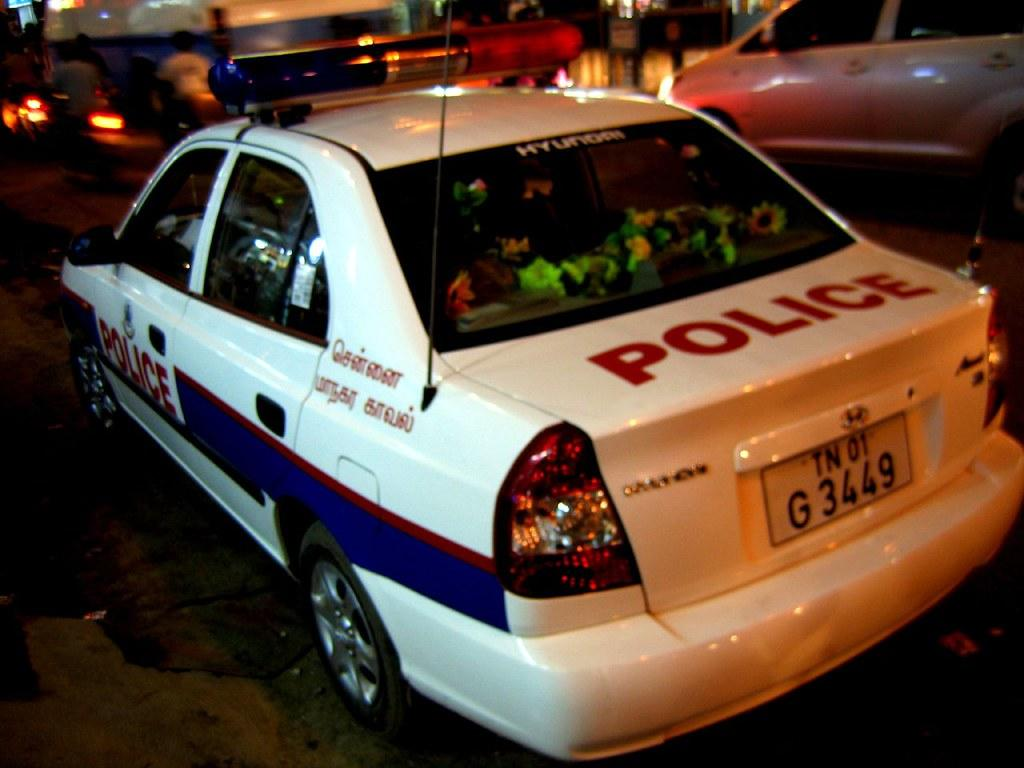Emergency-Vehicles: (20, 52, 1024, 767)
